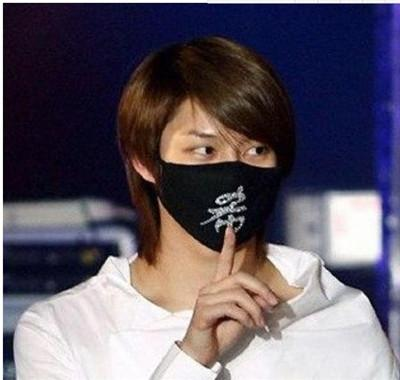face_mask: (161, 97, 277, 253)
